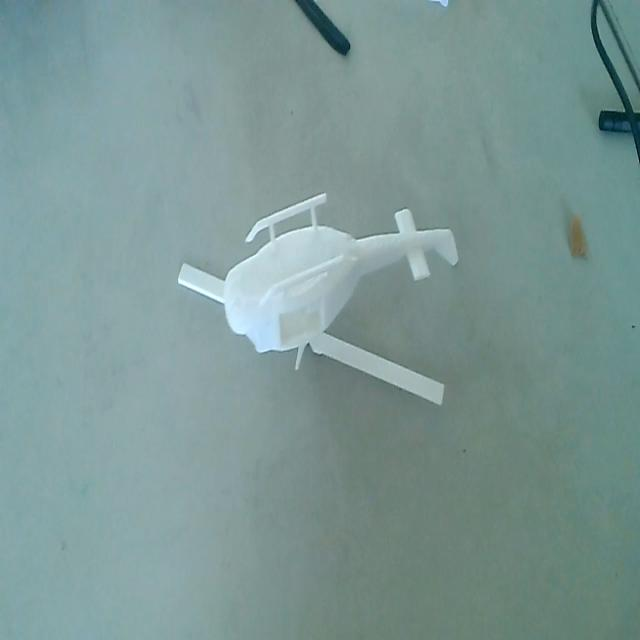Helicopter: (178, 187, 462, 414)
